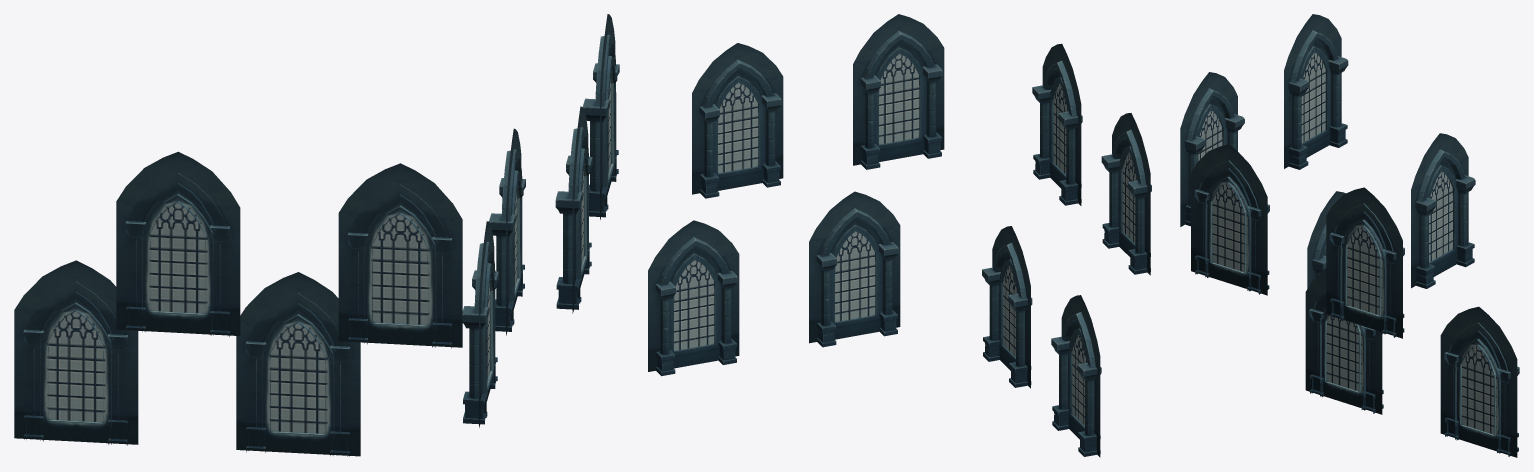
The model's file is Area_02_2.fbx.
3 renders of one model, left to right at view 1: azimuth 30°, elevation 25°; view 2: azimuth 150°, elevation 25°; view 3: azimuth 270°, elevation 25°, orthographic. The views are drawn at different scales.
Parts seen in each view (by area): view 1: Area_02_2; view 2: Area_02_2; view 3: Area_02_2.
Boxes of the visible parts, box(x1,y1,x2,y2) form: Area_02_2: box(14, 14, 619, 456); Area_02_2: box(648, 14, 1151, 457); Area_02_2: box(1180, 14, 1519, 457).
Size of the model in its own units: 3430 by 2032 by 2354.
